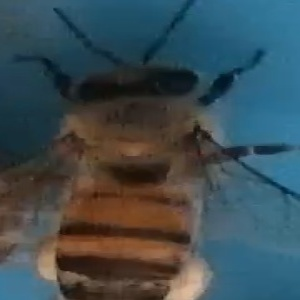bee: (22, 10, 283, 300)
